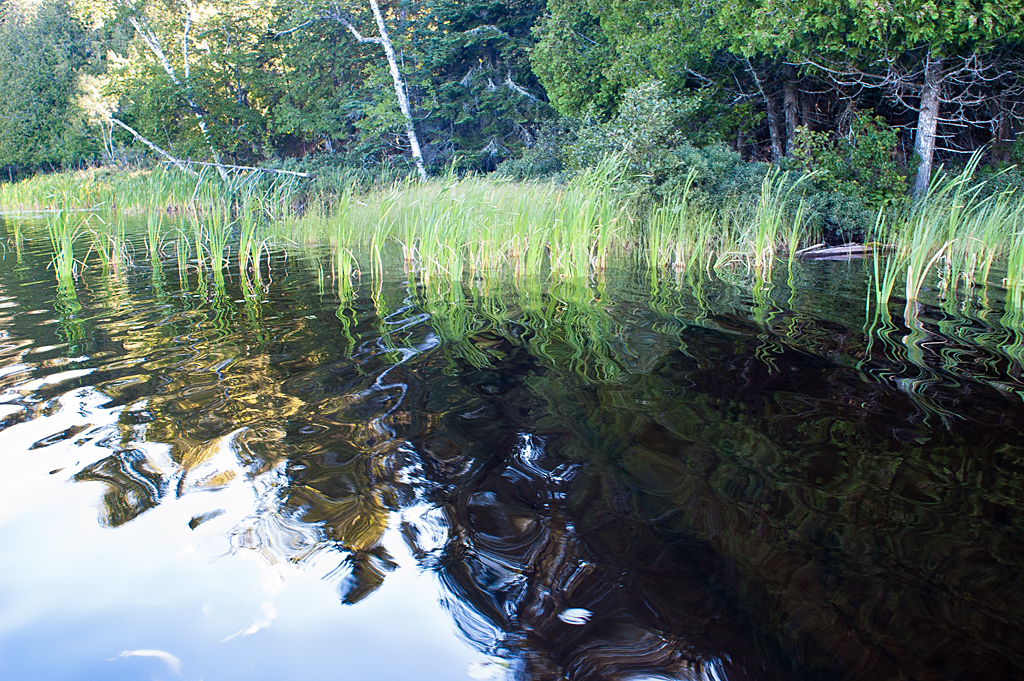Tree: (0, 0, 1022, 249)
